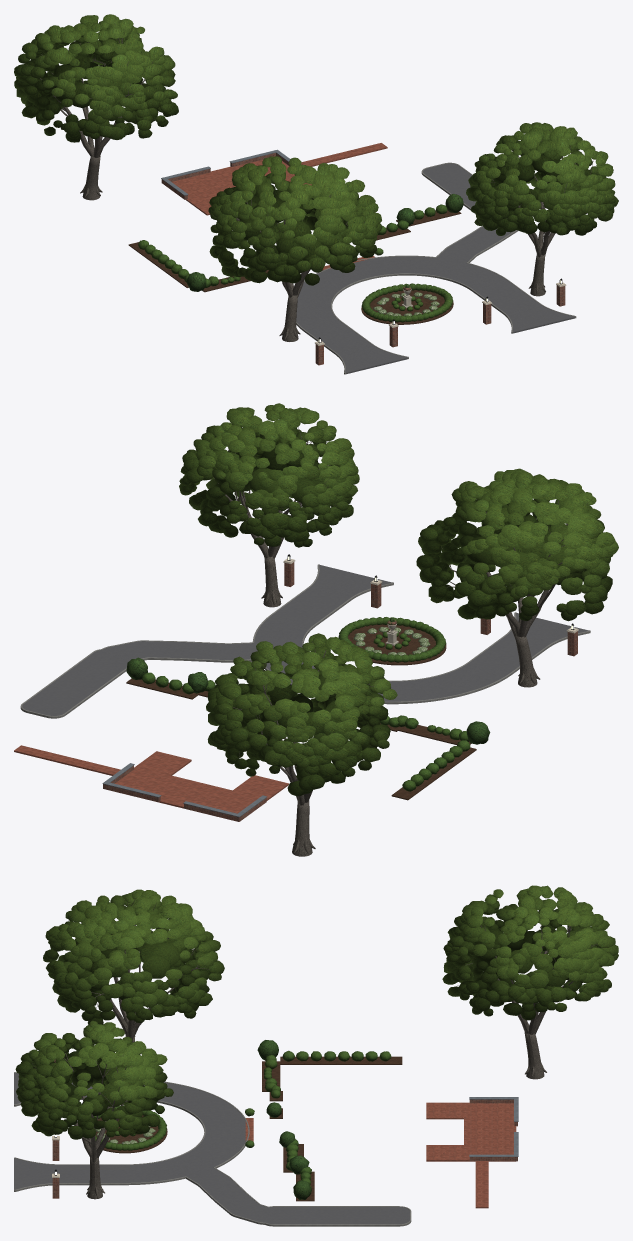
File: delacroix-house-lot.glb
The picture shows the model from 3 angles, top to bottom: view 1: azimuth 30°, elevation 25°; view 2: azimuth 150°, elevation 25°; view 3: azimuth 270°, elevation 25°; orthographic projection. The views are drawn at different scales.
Parts seen in each view (by area): view 1: Tree_Hardwood_1, Lot_Drive, Tree_Hardwood_3, Tree_Hardwood_2, Lot_Plants, Lot_Beds; view 2: Lot_Drive, Tree_Hardwood_1, Tree_Hardwood_3, Tree_Hardwood_2, Lot_Plants, Lot_Beds; view 3: Lot_Drive, Tree_Hardwood_1, Tree_Hardwood_3, Tree_Hardwood_2, Lot_Plants, Lot_Beds.
Boxes of the visible parts, x1,y1,x2,y2 form: Tree_Hardwood_1: (208,156,382,341); Lot_Drive: (161,143,576,374); Tree_Hardwood_3: (14,14,178,200); Tree_Hardwood_2: (466,122,618,296); Lot_Plants: (138,194,463,322); Lot_Beds: (128,210,461,324); Lot_Drive: (14,554,590,821); Tree_Hardwood_1: (416,468,618,687); Tree_Hardwood_3: (206,633,397,856); Tree_Hardwood_2: (179,403,359,607); Lot_Plants: (126,617,490,791); Lot_Beds: (126,624,476,800); Lot_Drive: (14,1059,518,1226); Tree_Hardwood_1: (43,889,224,1042); Tree_Hardwood_3: (442,885,618,1079); Tree_Hardwood_2: (15,1020,173,1199); Lot_Plants: (94,1040,391,1199); Lot_Beds: (95,1056,402,1201).
Size of the model in its own units: 42.11 by 18.67 by 56.91.
16 materials, 14 textured.
